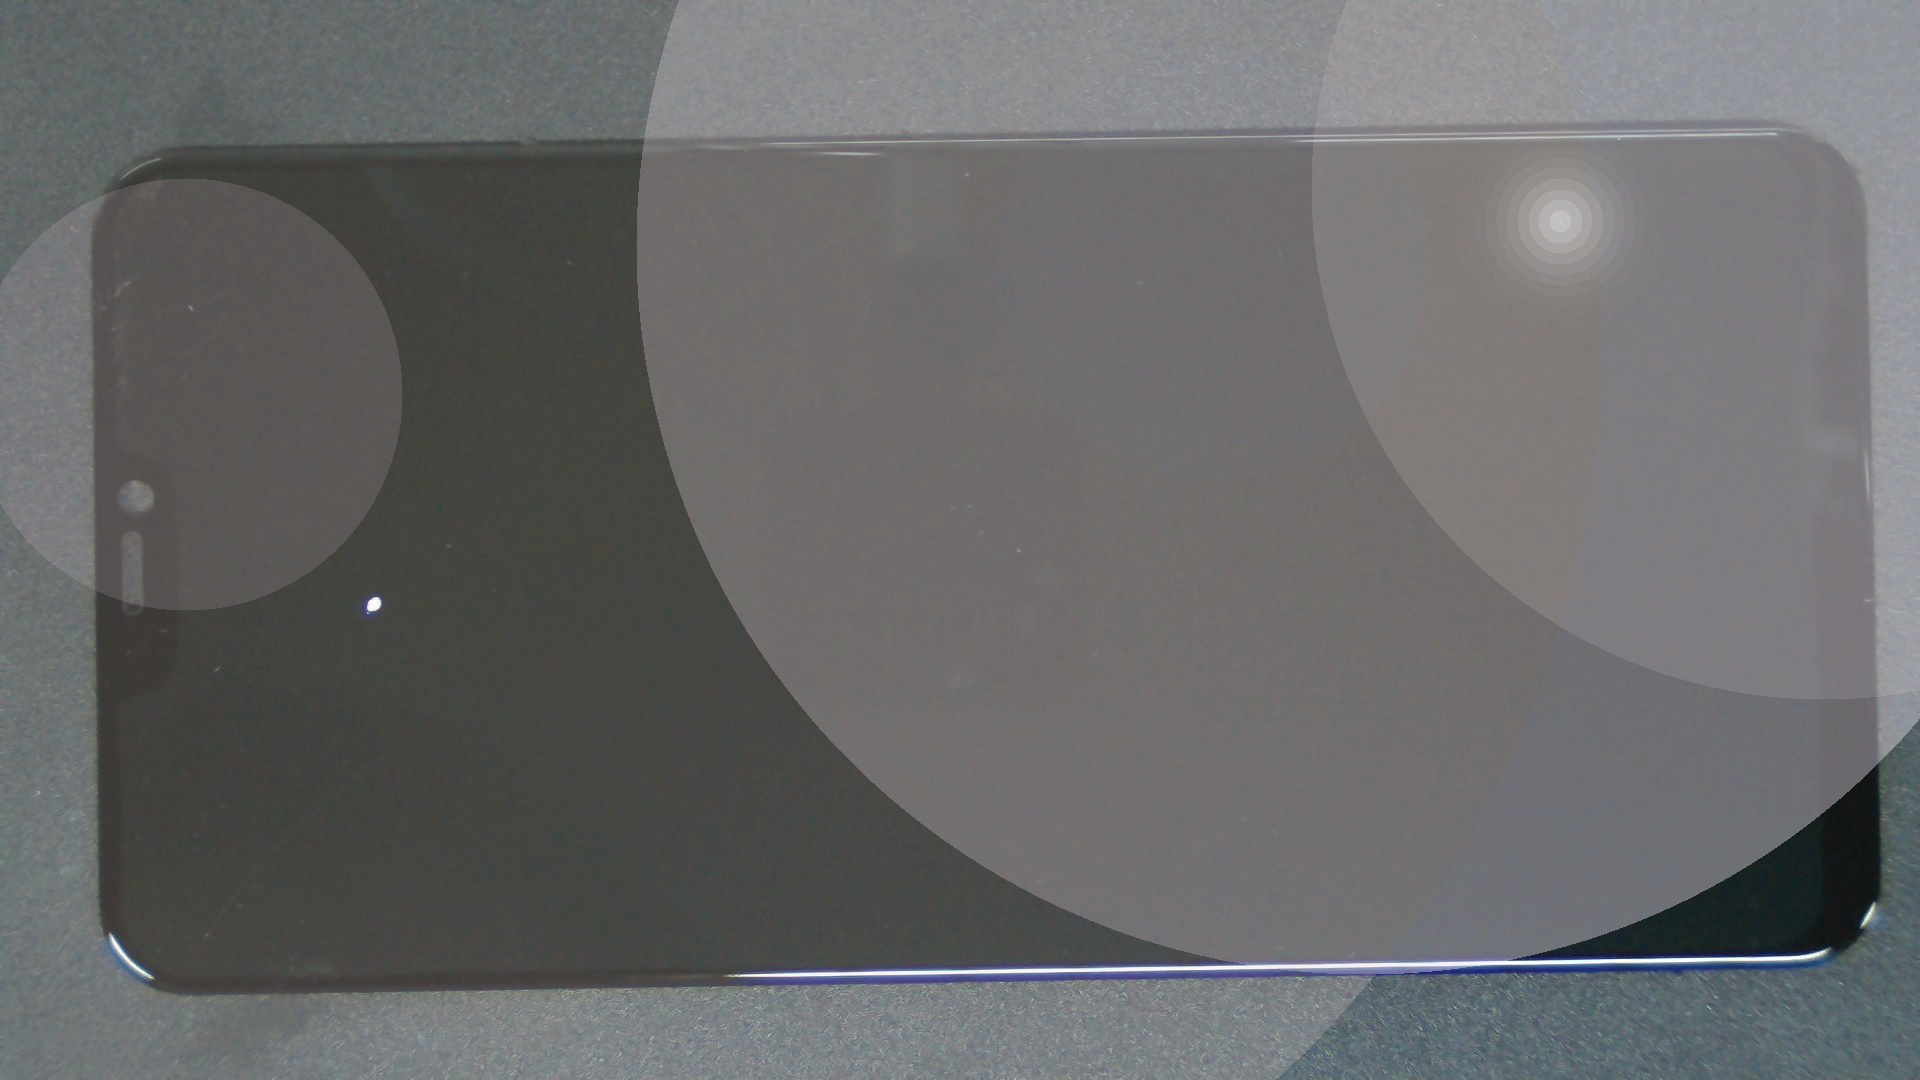oil: (187, 297, 556, 894)
